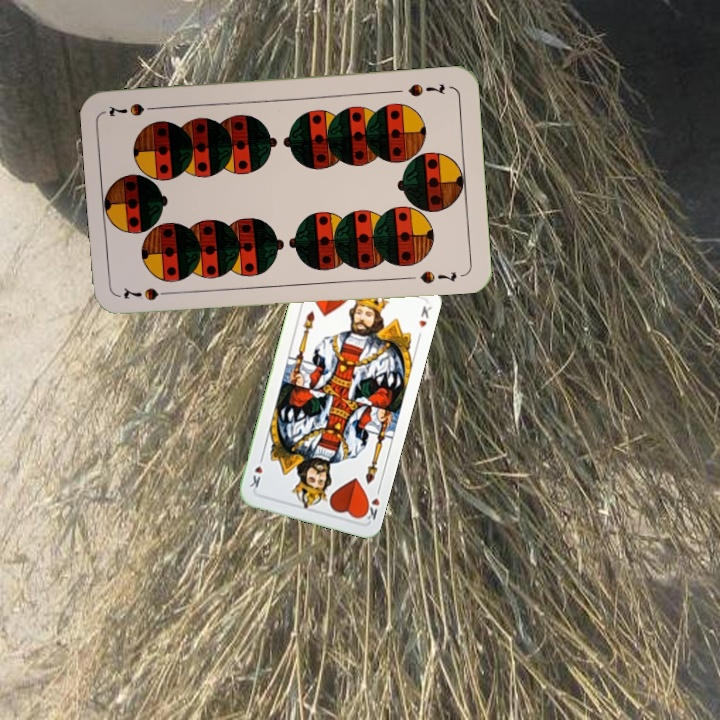HK: (359, 483, 383, 523)
S7: (119, 284, 176, 303), (404, 79, 448, 99)
